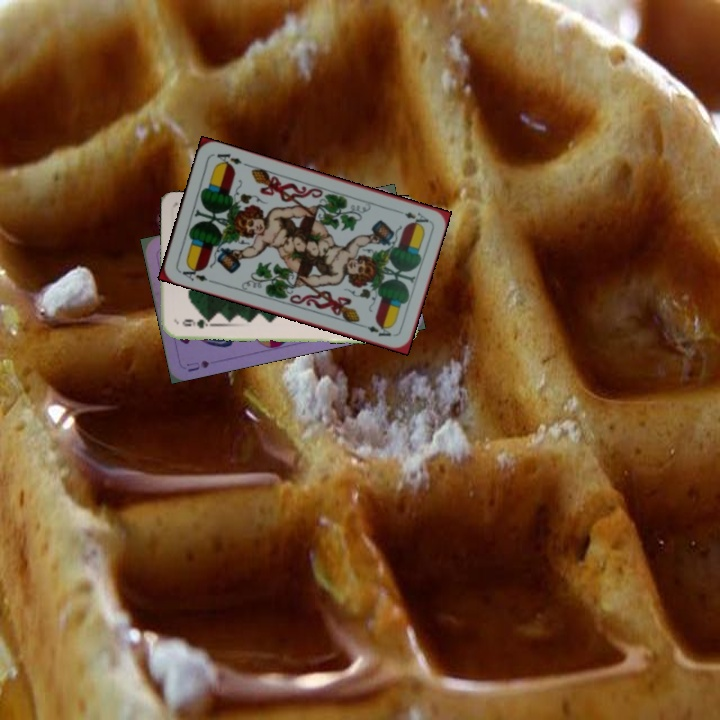EA: (178, 262, 216, 285), (392, 206, 431, 228)
G9: (178, 316, 214, 331)
SU: (182, 356, 212, 374)
